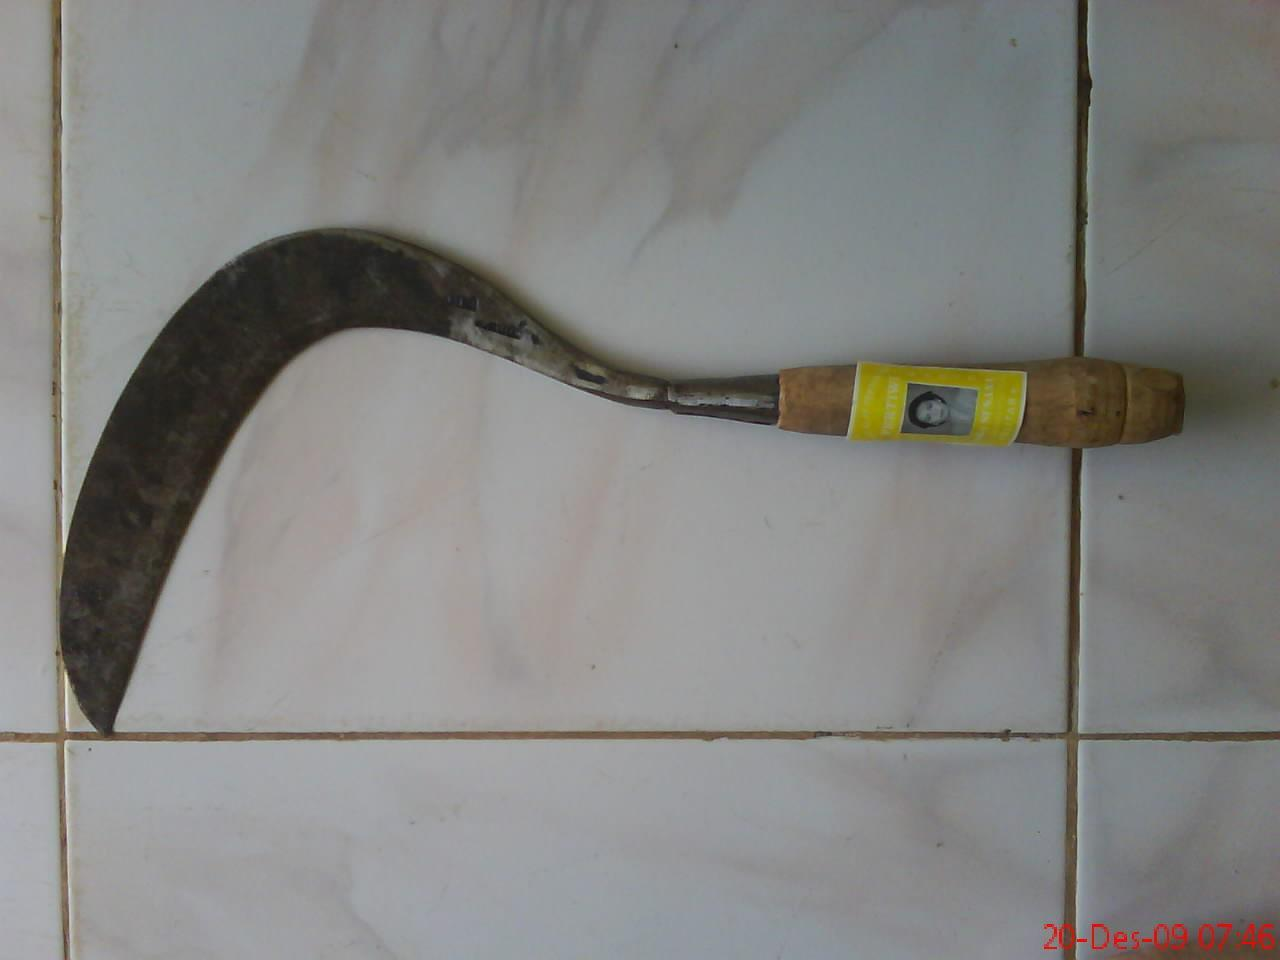foice: (49, 187, 1200, 737)
